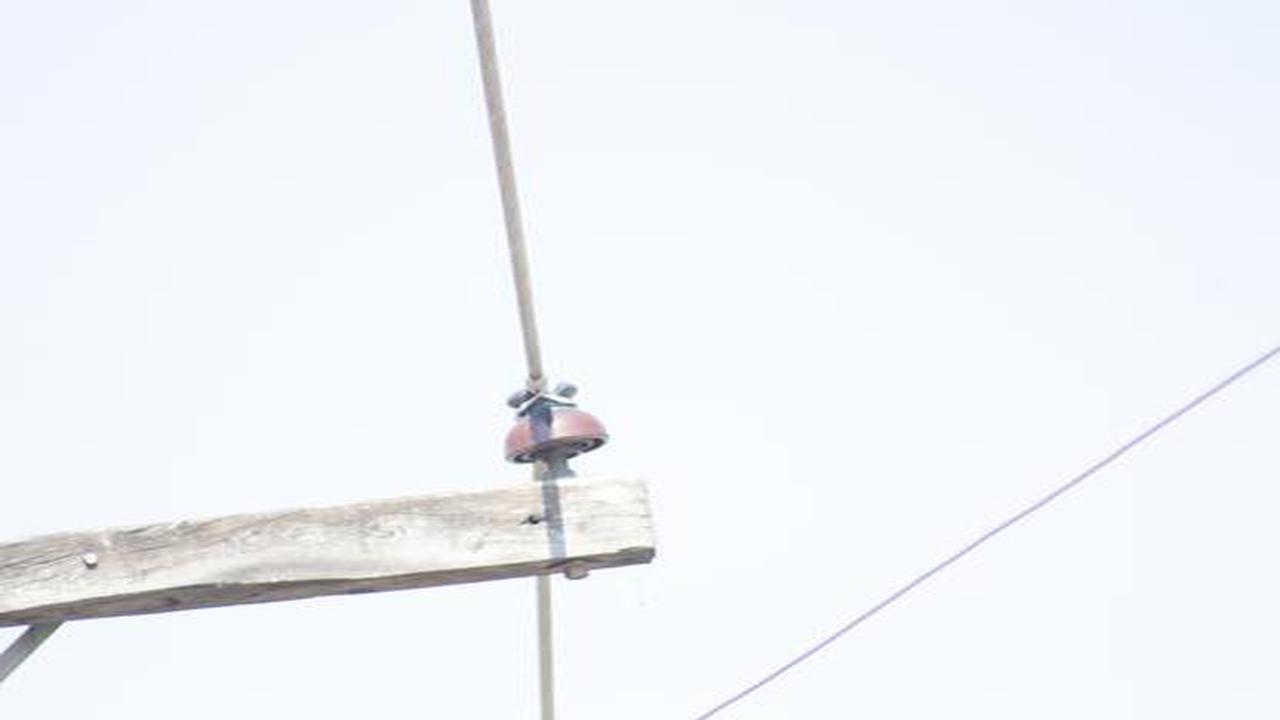insulator_pin: (501, 381, 613, 470)
